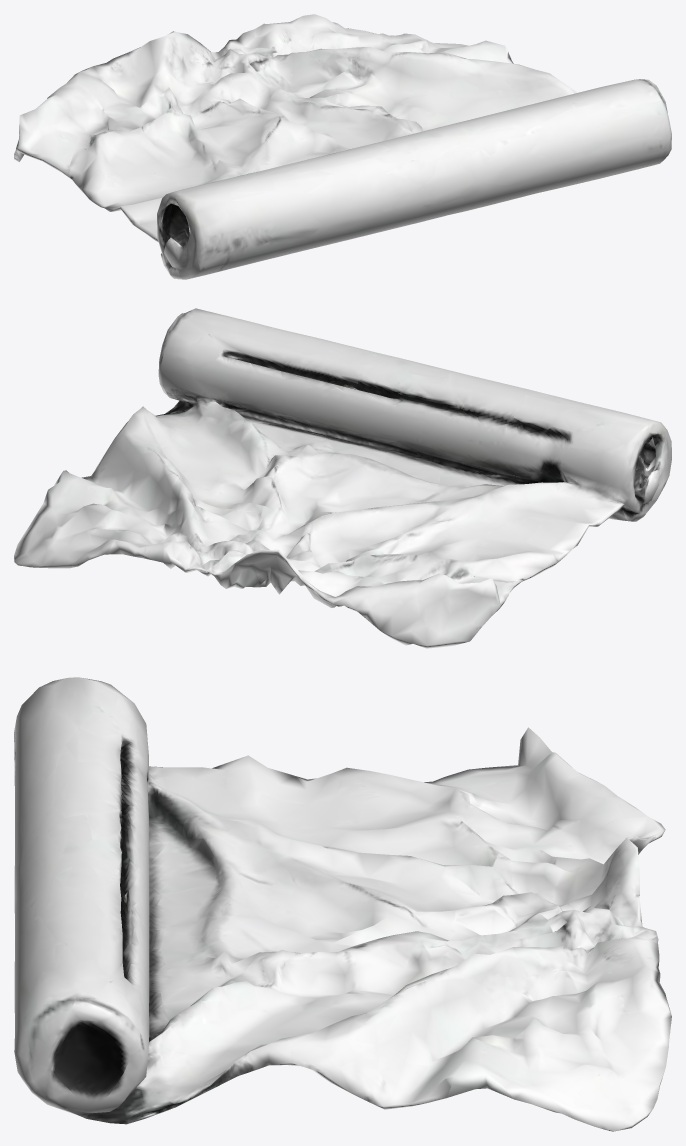
The model's file is react-aluminum_roll-TERHUWo-.glb.
The picture shows the model from 3 angles, top to bottom: view 1: azimuth 30°, elevation 25°; view 2: azimuth 150°, elevation 25°; view 3: azimuth 270°, elevation 25°; orthographic projection. The views are drawn at different scales.
Visible parts, largest first — view 1: Meshy_Mesh_0.003; view 2: Meshy_Mesh_0.003; view 3: Meshy_Mesh_0.003.
Boxes of the visible parts, x1,y1,x2,y2 form: Meshy_Mesh_0.003: [14, 14, 671, 279]; Meshy_Mesh_0.003: [14, 308, 671, 648]; Meshy_Mesh_0.003: [14, 677, 671, 1131].
Bounding box in the file's own units: 0.3057 × 0.063 × 0.2563.
1 material, 1 textured.
